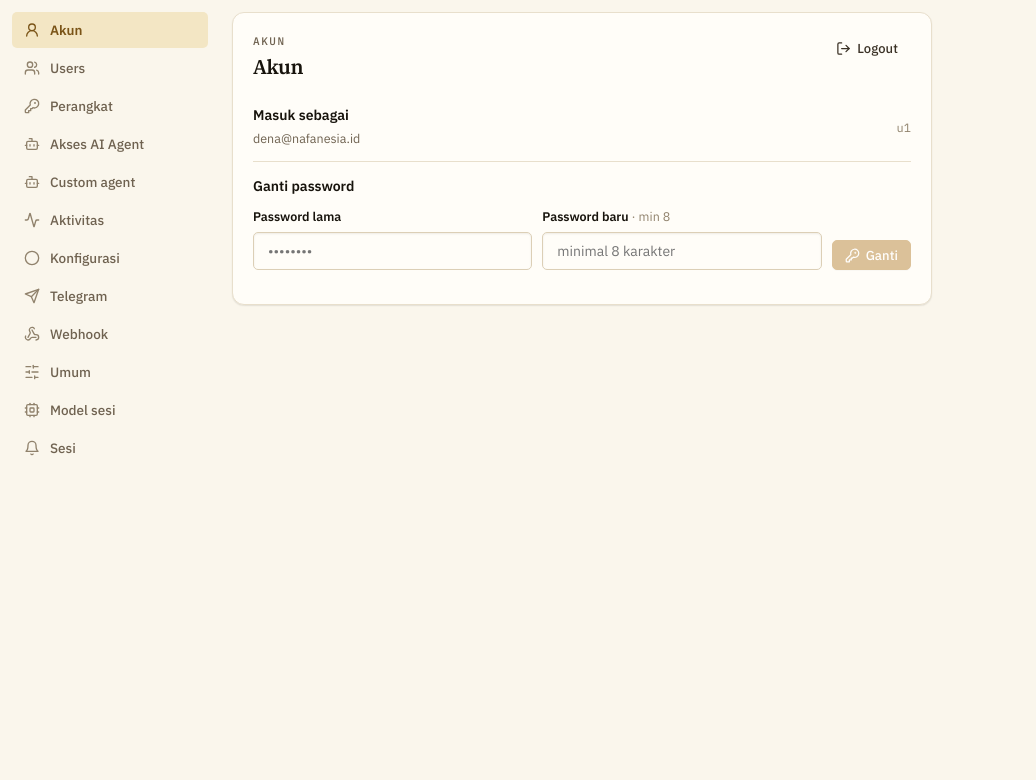
Test: SPEC-383 · kartu default sesi konflik › respons tanpa blok conflict tetap render (fallback default)
The width and height of the screenshot is (1036, 780).
Click the button "Model sesi".
click(110, 410)  # box x1=12 y1=392 x2=208 y2=428
(page scrolled)
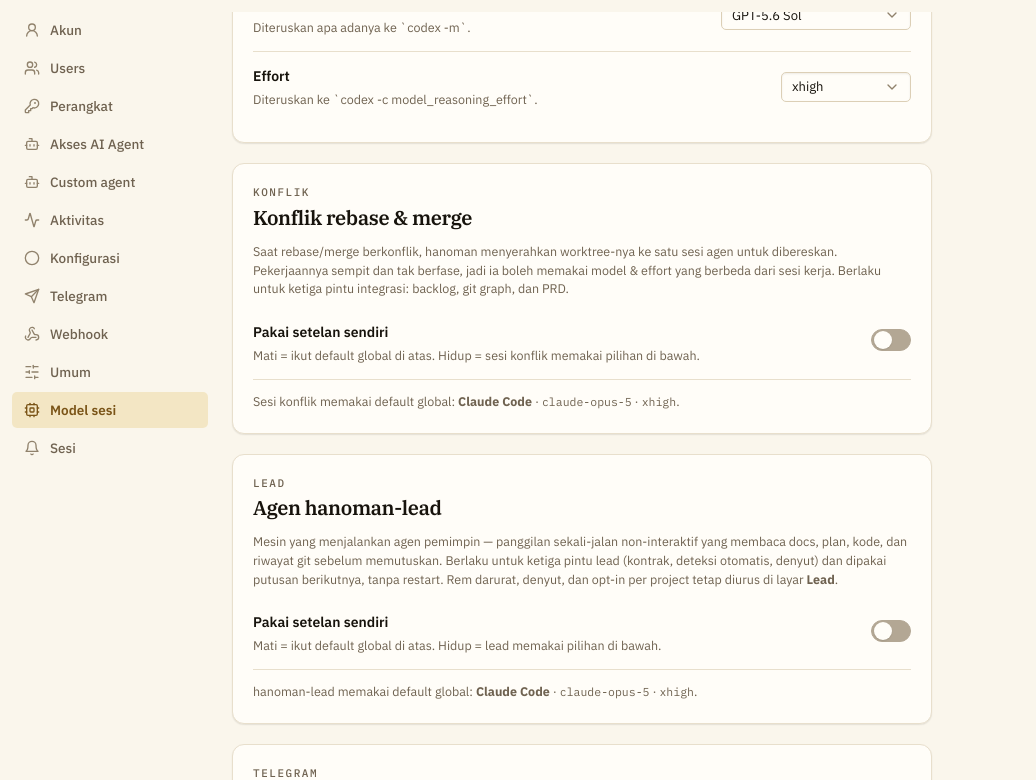
Expected: the element named "Override agen konflik" is shown, x1=871 y1=335 x2=911 y2=355
Expected: the element with test id "conflict-inherited" is shown, x1=253 y1=393 x2=680 y2=409
